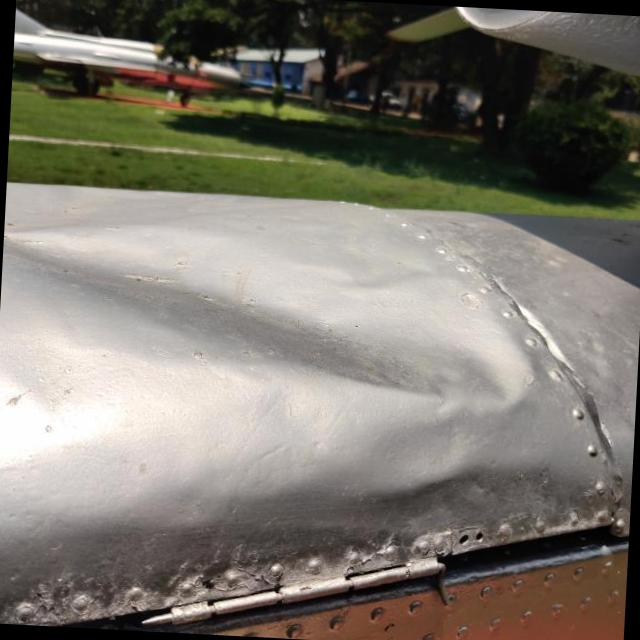Dent: (0, 188, 585, 622)
